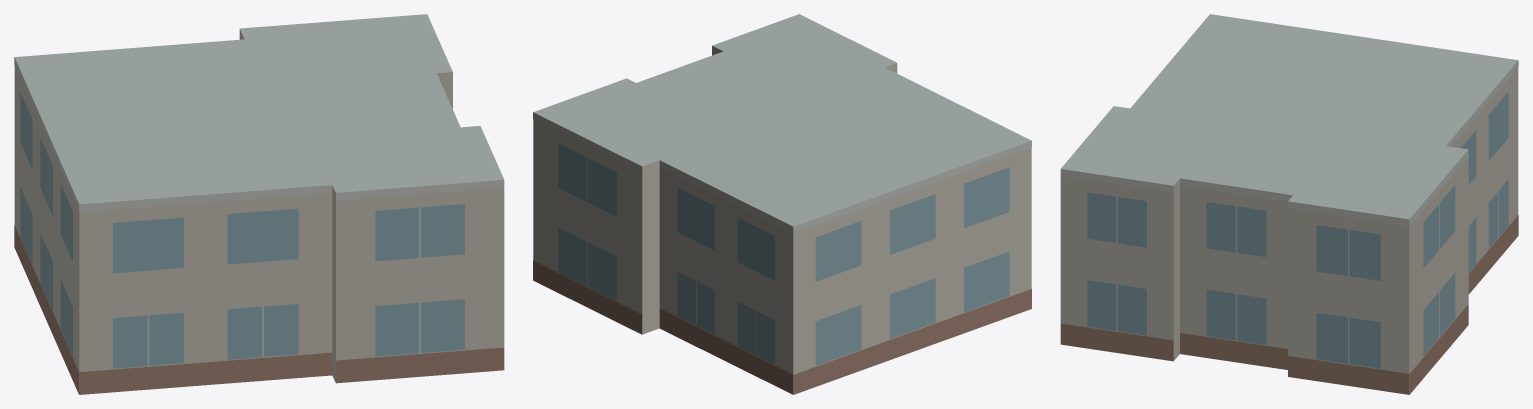
Rendered from survey-upis-32657123.glb.
3 views of the same model, side by side, from view 1: azimuth 30°, elevation 25°; view 2: azimuth 150°, elevation 25°; view 3: azimuth 270°, elevation 25° (orthographic). The views are drawn at different scales.
Visible parts, largest first — view 1: survey-upis-32657123.tmp; view 2: survey-upis-32657123.tmp; view 3: survey-upis-32657123.tmp.
Boxes of the visible parts, x1=… form: survey-upis-32657123.tmp: x1=14, y1=14, x2=504, y2=394; survey-upis-32657123.tmp: x1=533, y1=14, x2=1031, y2=394; survey-upis-32657123.tmp: x1=1060, y1=14, x2=1518, y2=394.
Size of the model in its own units: 15.31 by 6.1 by 14.43.
